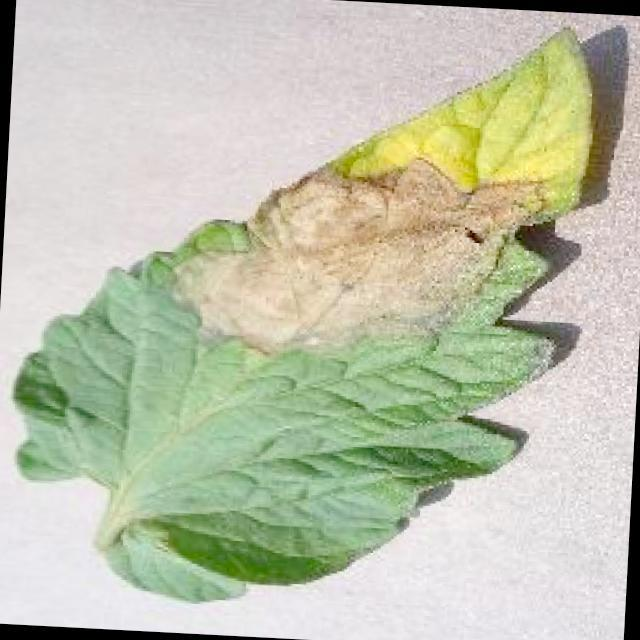Tomato late blight leaf: (0, 0, 597, 622)
